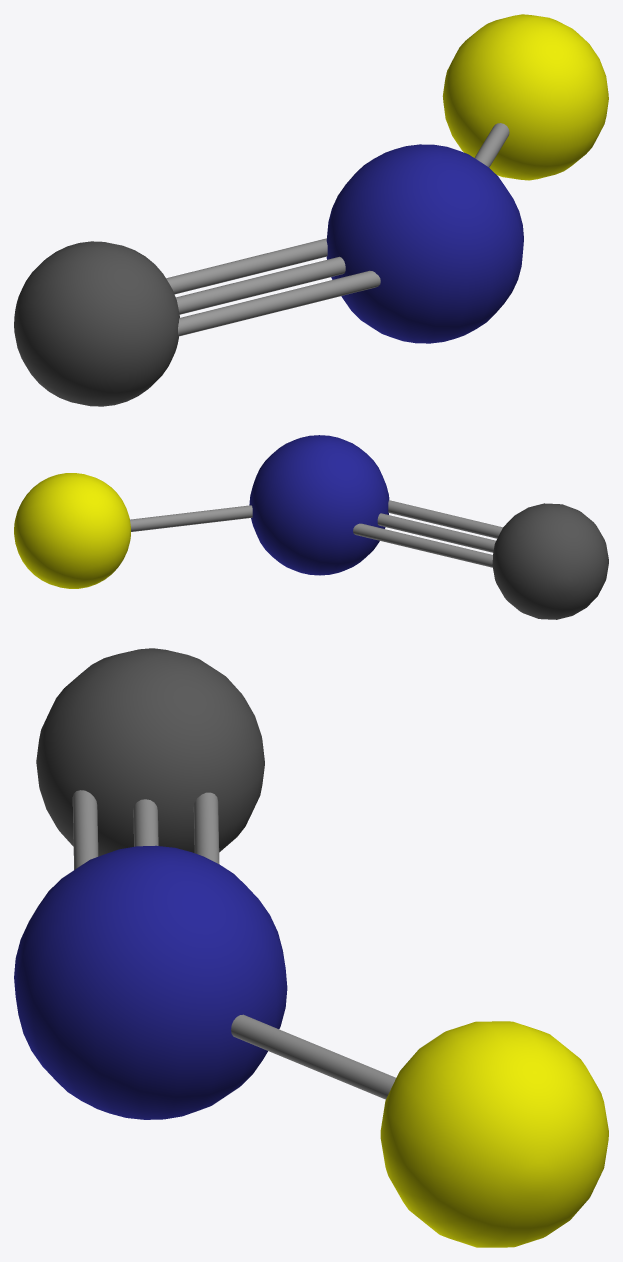
Rendered from HNC.fbx.
The picture shows the model from 3 angles, top to bottom: view 1: azimuth 30°, elevation 25°; view 2: azimuth 150°, elevation 25°; view 3: azimuth 270°, elevation 25°; orthographic projection. The views are drawn at different scales.
Parts seen in each view (by area): view 1: HNC; view 2: HNC; view 3: HNC.
Part boxes in pixels (box(x1,y1,x2,y2)): HNC: box(14, 14, 608, 406); HNC: box(14, 435, 608, 619); HNC: box(14, 648, 608, 1247).
Size of the model in its own units: 8.08 by 2 by 4.33.
